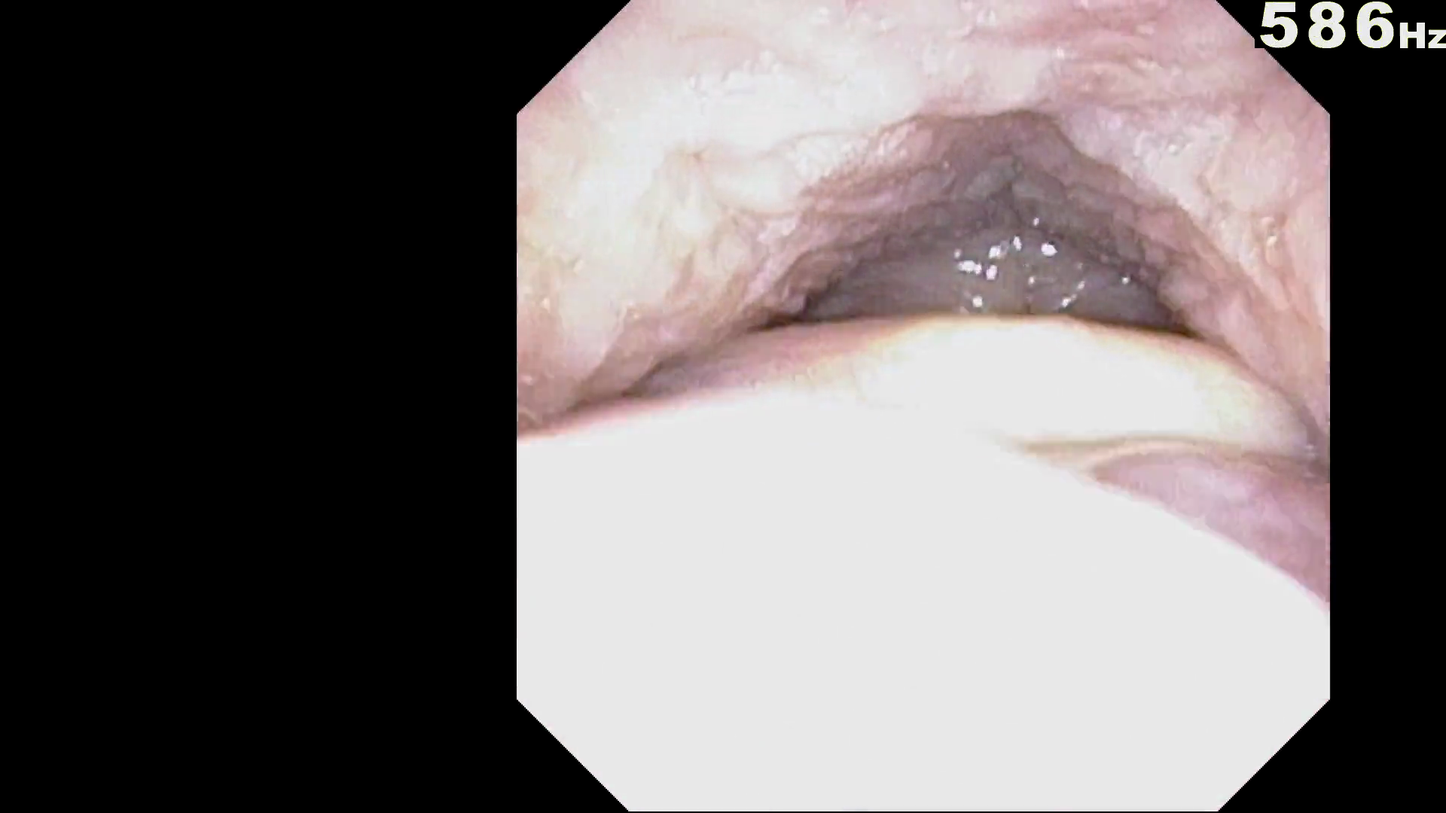epiglottis: (641, 256, 1293, 563)
